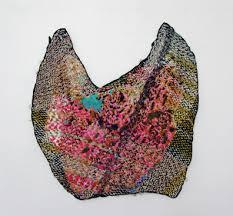Textile: (22, 21, 205, 200)
